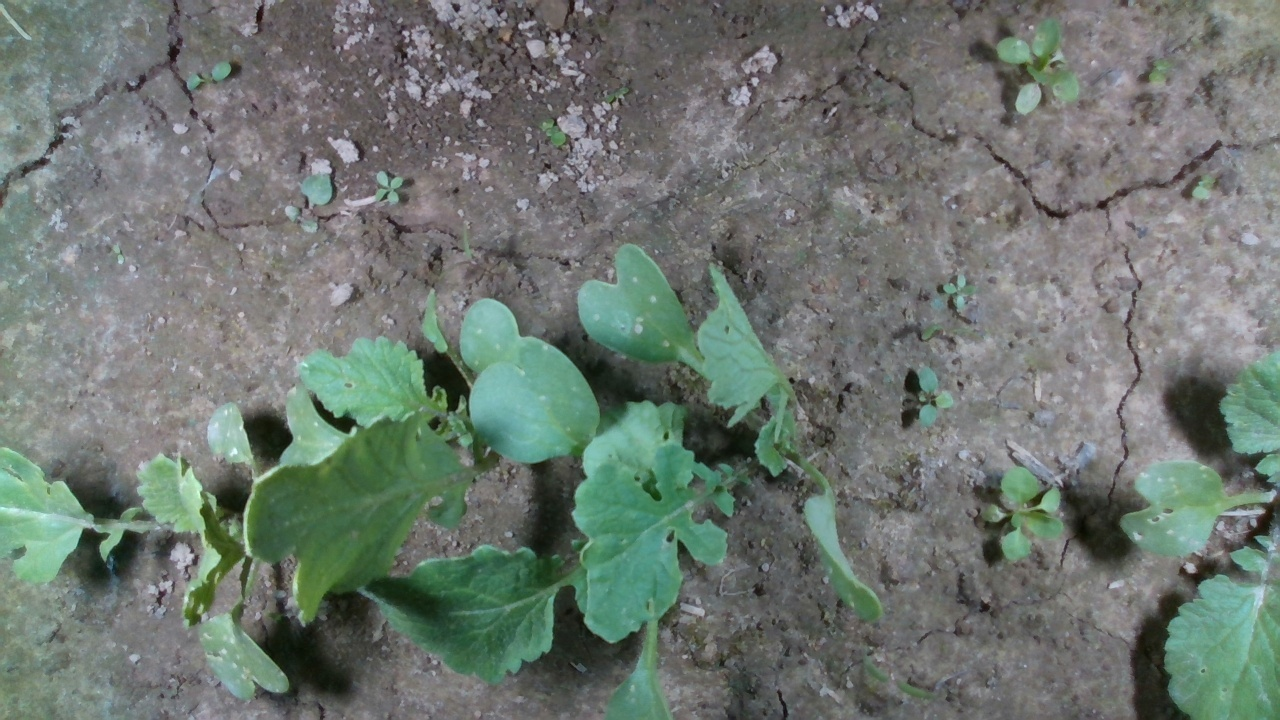weed: (179, 64, 244, 92), (939, 269, 977, 314), (371, 167, 414, 206)
